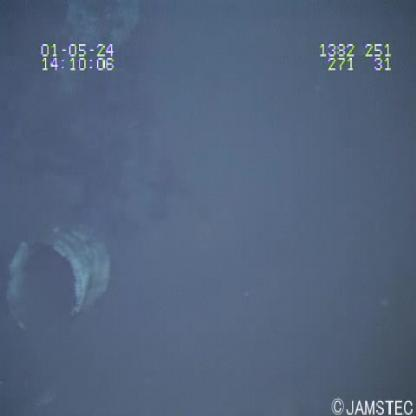Rác: (3, 218, 114, 346)
